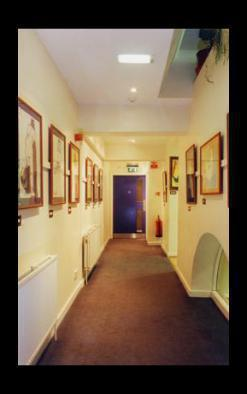Otro Obstaculo: (18, 253, 58, 361), (85, 226, 103, 273), (151, 213, 162, 241)
Puerta: (112, 180, 142, 238)
